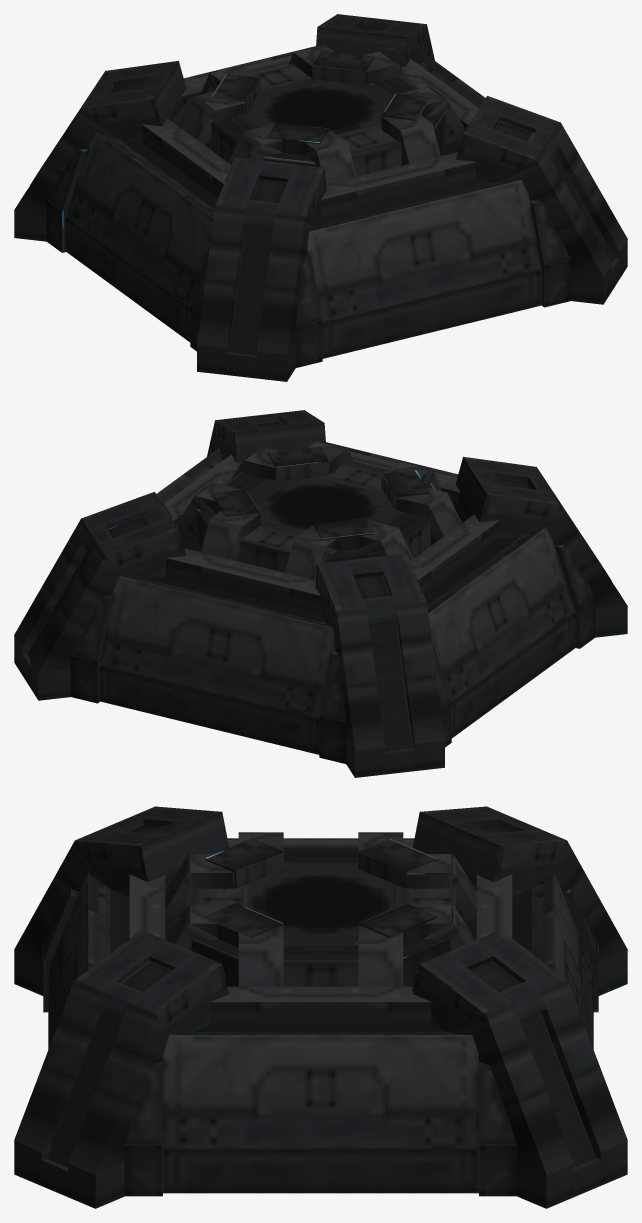
Rendered from cannon_base_medium.obj.
3 views of the same model, one above another, from view 1: azimuth 30°, elevation 25°; view 2: azimuth 150°, elevation 25°; view 3: azimuth 270°, elevation 25° (orthographic). The views are drawn at different scales.
Parts seen in each view (by area): view 1: base; view 2: base; view 3: base.
Boxes of the visible parts, x1=… form: base: x1=14, y1=14, x2=627, y2=381; base: x1=14, y1=410, x2=627, y2=777; base: x1=14, y1=806, x2=627, y2=1208.
Bounding box in the file's own units: 3.21 × 1.11 × 3.21.
